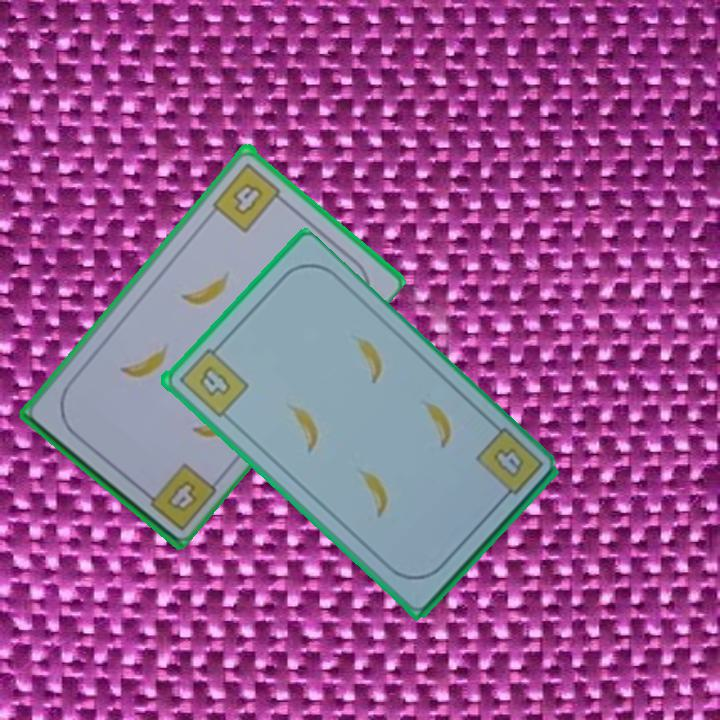4b: (209, 158, 290, 235), (174, 339, 251, 420), (471, 424, 546, 507), (167, 476, 200, 514)
